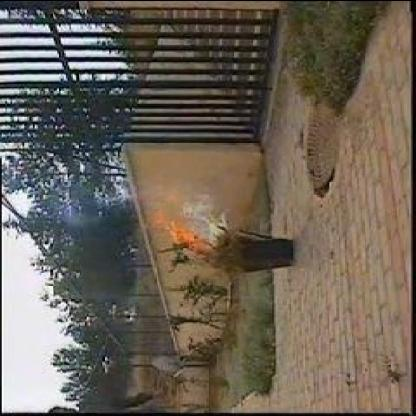-: (190, 200, 223, 236)
foggia-v2-map80-epoch100 - v1 4323: (170, 228, 192, 246)
